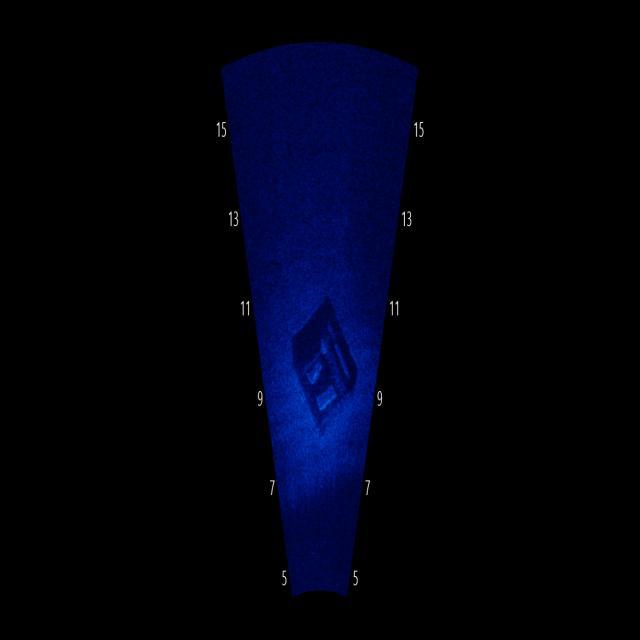square: (282, 272, 371, 454)
